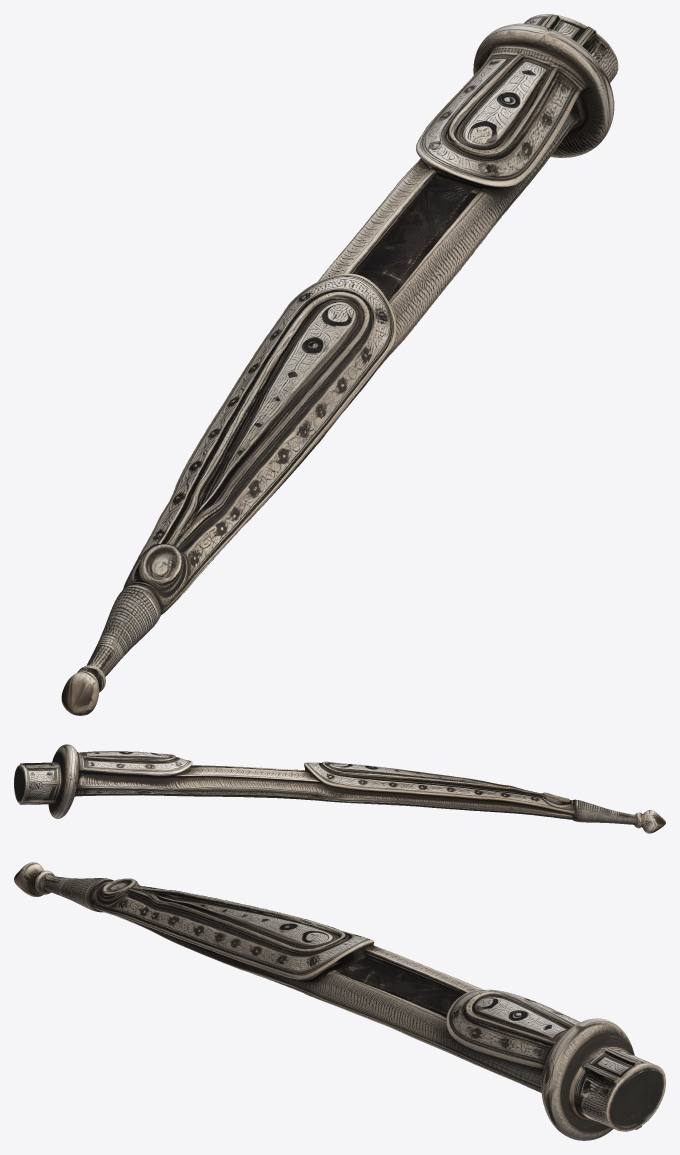
The model's file is dagger-1.glb.
3 renders of one model, top to bottom at view 1: azimuth 30°, elevation 25°; view 2: azimuth 150°, elevation 25°; view 3: azimuth 270°, elevation 25°, orthographic. The views are drawn at different scales.
Bounding box in the file's own units: 1.9 × 0.4551 × 1.49.
1 material, 1 textured.
